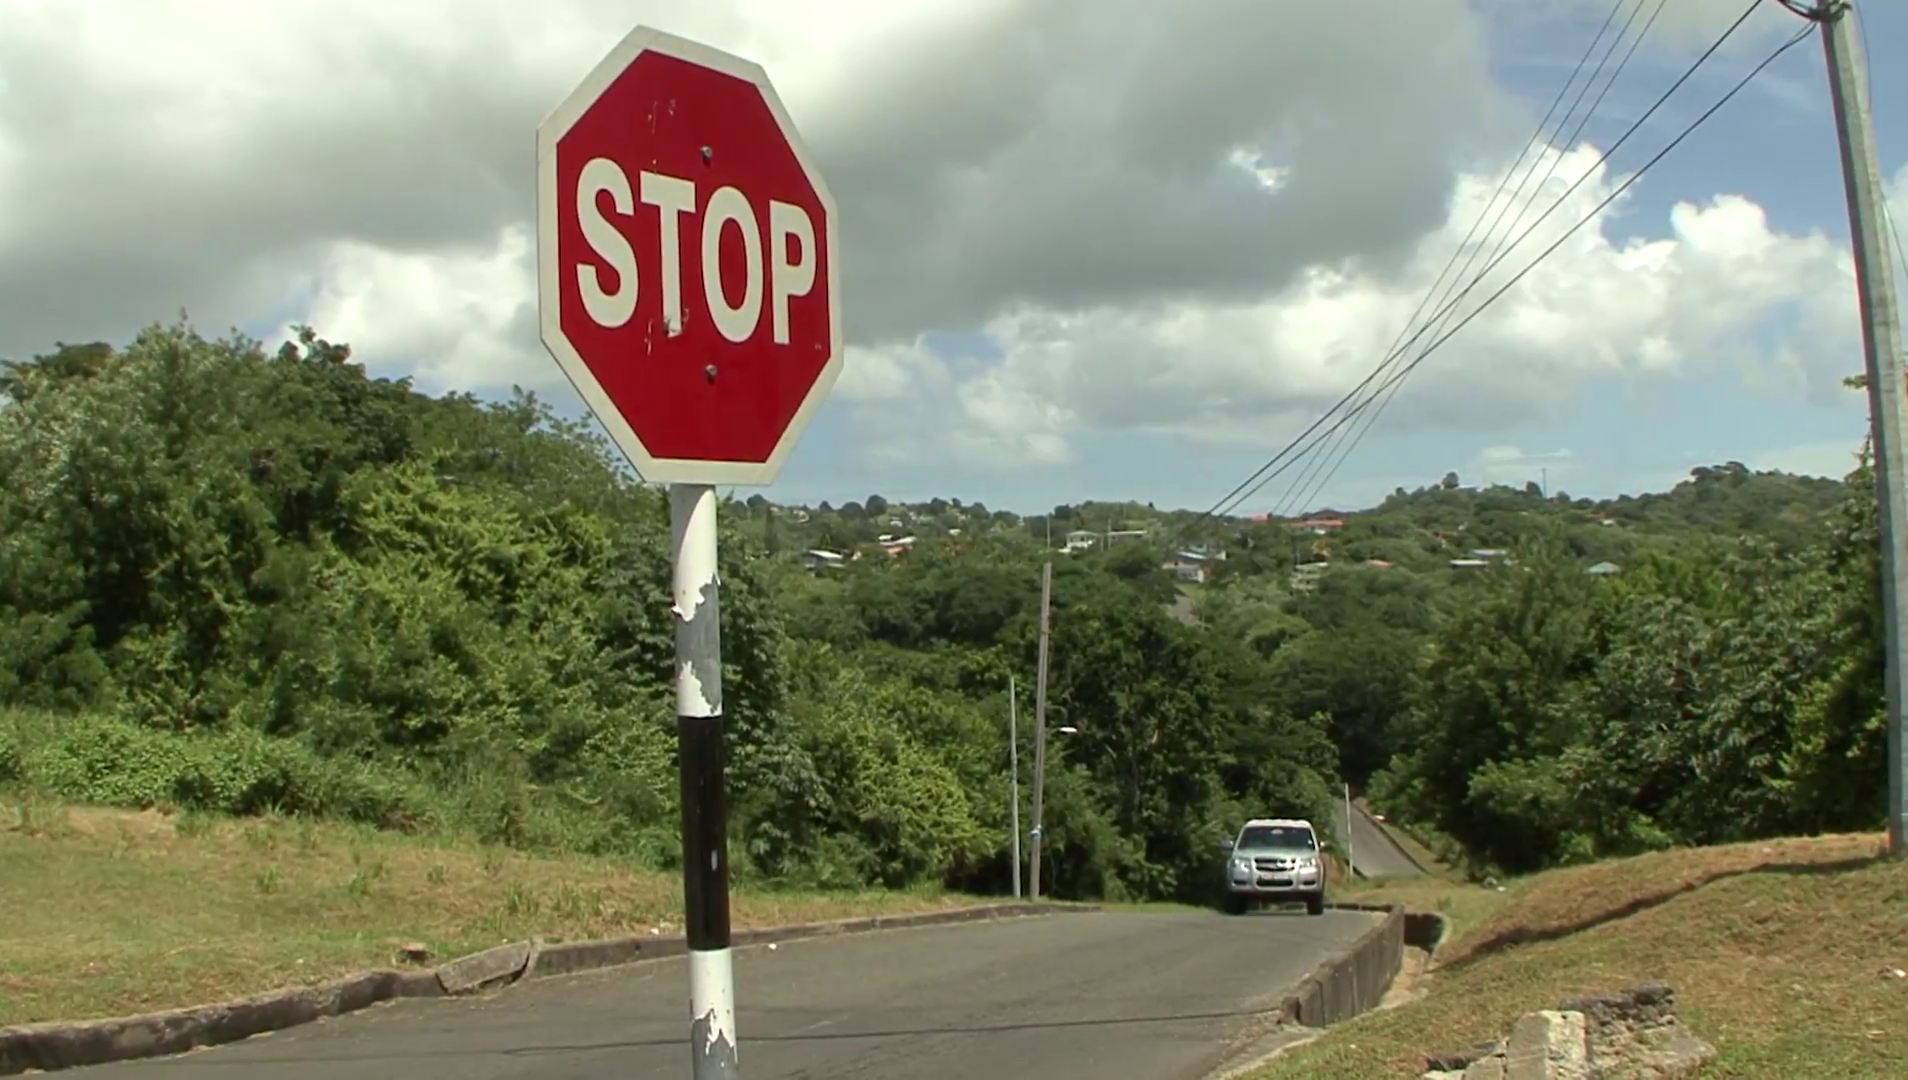stopsign: (539, 31, 845, 477)
